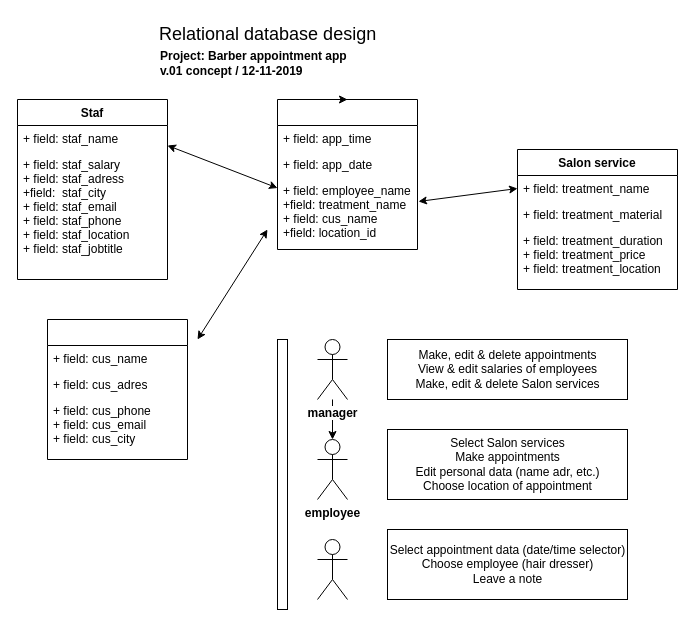
The diagram is 695 pixels wide and 637 high, and some of its shapes have lost their labels. Each missing label, with the box of its shape:
Appointments: (276, 98, 418, 250)
customer: (316, 538, 348, 600)
Customers: (46, 318, 188, 460)
